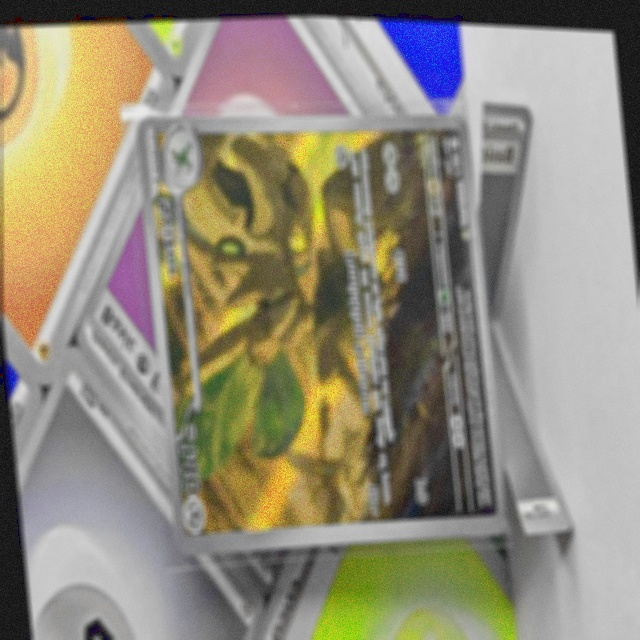card: (133, 106, 505, 556)
